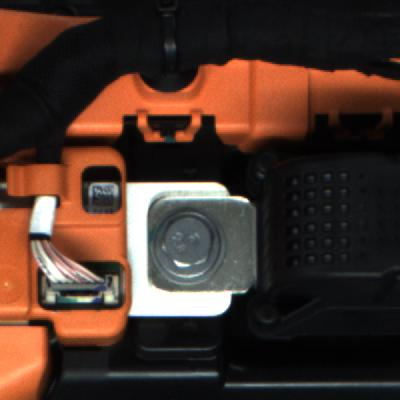nut_b: (148, 203, 232, 286)
